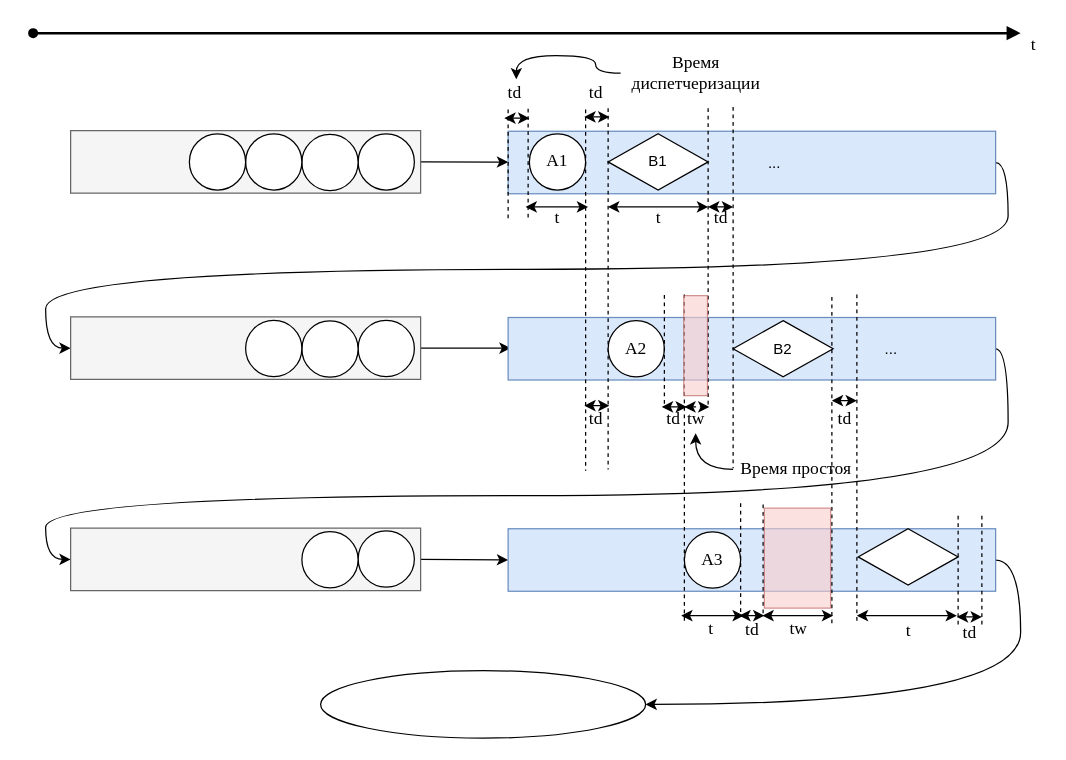
Image size: 1066x760. Some labels were removed from this diagram. Here are the shapes that lost their labels. From the top down, the centre of each, then its label:
pixel 907 556: В3
pixel 482 703: Пул обработанных заявок
